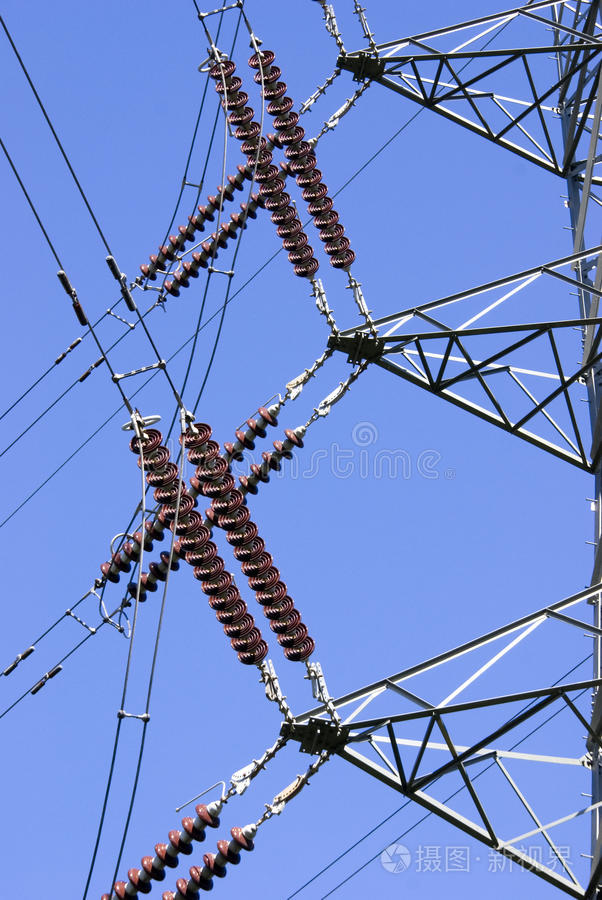insulator: (130, 424, 314, 667), (100, 408, 295, 605), (208, 54, 354, 271), (144, 127, 295, 297), (103, 805, 250, 900)
